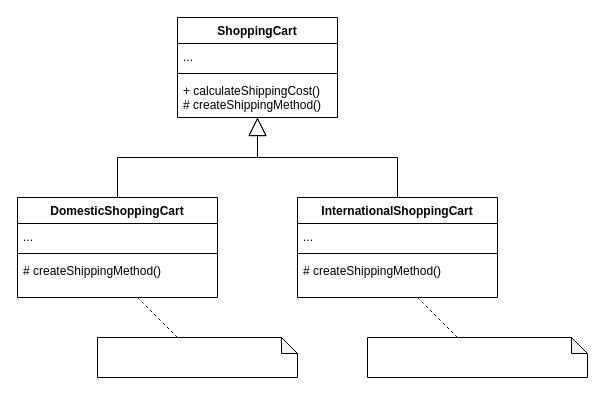
Some shapes in this 605 by 395 pixel diagram are drawn without their labels. The shapes that lost their labels are listed below. From the top down, each one's centre as x and y in pixels, then its label:
the point at 197,357: return new DomesticShipping();
the point at 477,357: return new InternationalShipping();
